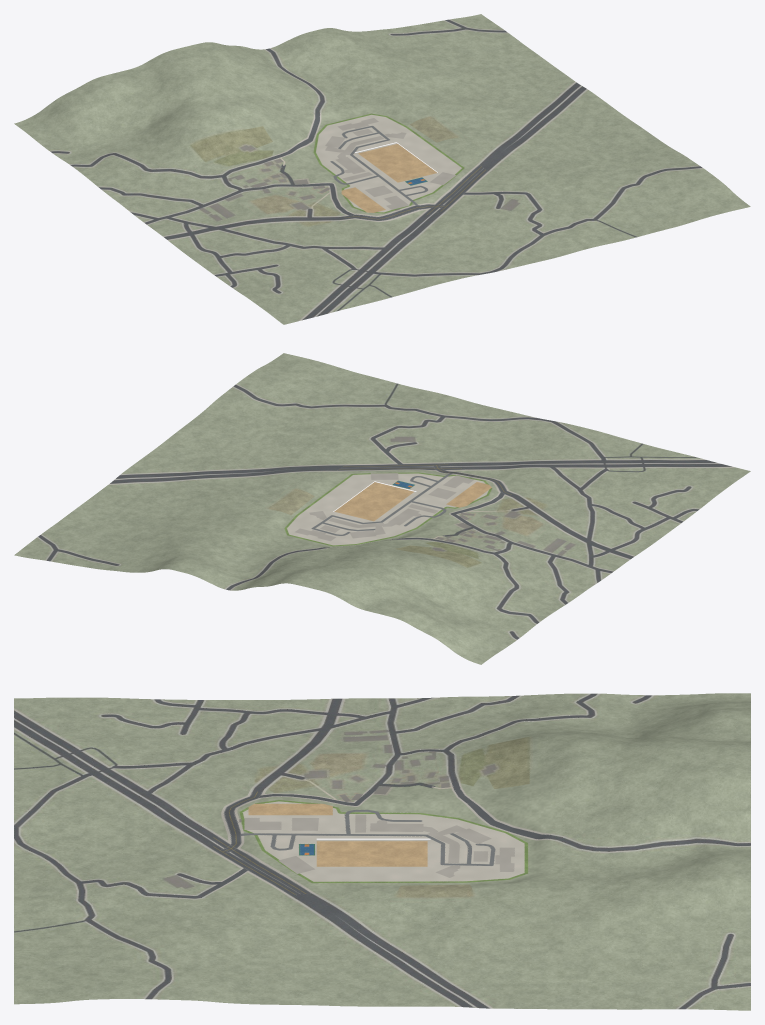
The picture shows the model from 3 angles, top to bottom: view 1: azimuth 30°, elevation 25°; view 2: azimuth 150°, elevation 25°; view 3: azimuth 270°, elevation 25°; orthographic projection. The views are drawn at different scales.
Parts seen in each view (by area): view 1: ground-area, ground-school; view 2: ground-area, ground-school; view 3: ground-area, ground-school.
Part boxes in pixels (bbox=[...]): ground-area: bbox=[14, 14, 750, 324]; ground-school: bbox=[237, 96, 515, 229]; ground-area: bbox=[14, 353, 750, 664]; ground-school: bbox=[249, 444, 527, 553]; ground-area: bbox=[14, 693, 750, 1010]; ground-school: bbox=[213, 764, 551, 894].
Bounding box in the file's own units: 784 × 64.1 × 784.
Materials: 2 (2 with a texture image).
